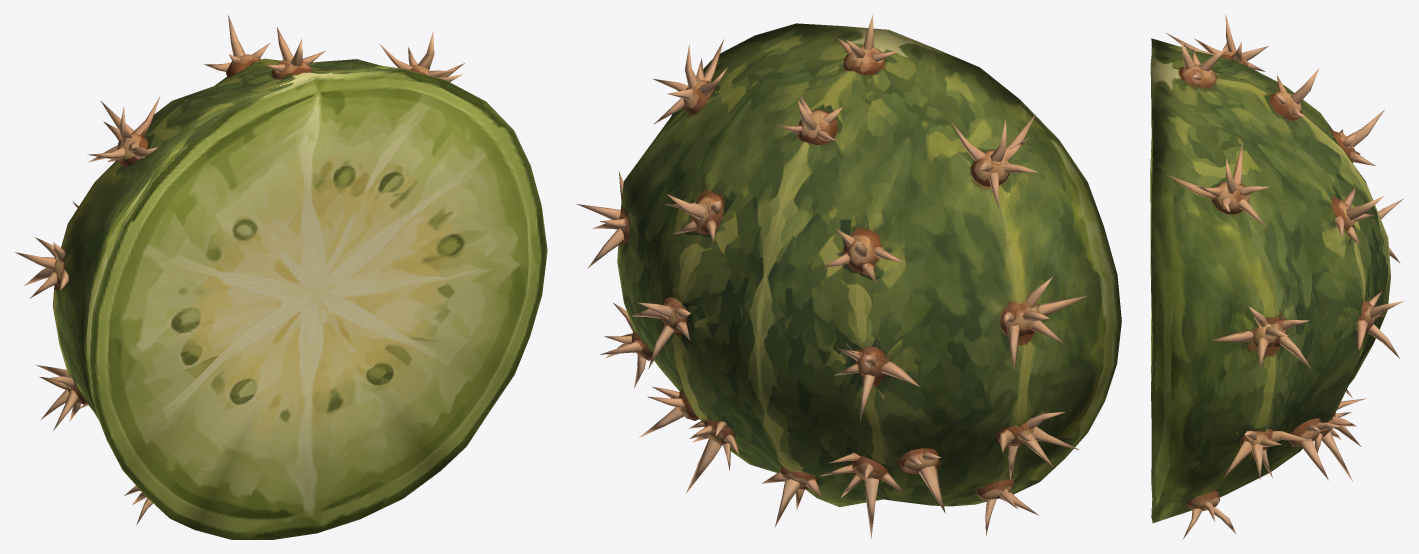
The model's file is Meshy_AI_Prickly_Cucumber_Slice_20261026_texture.fbx.
3 renders of one model, left to right at view 1: azimuth 30°, elevation 25°; view 2: azimuth 150°, elevation 25°; view 3: azimuth 270°, elevation 25°, orthographic. The views are drawn at different scales.
Visible parts, largest first — view 1: Mesh_0; view 2: Mesh_0; view 3: Mesh_0.
Boxes of the visible parts, x1,y1,x2,y2 form: Mesh_0: [15, 14, 547, 539]; Mesh_0: [576, 15, 1121, 538]; Mesh_0: [1150, 14, 1403, 538].
Size of the model in its own units: 100 by 100 by 50.51.
1 material, 1 textured.
